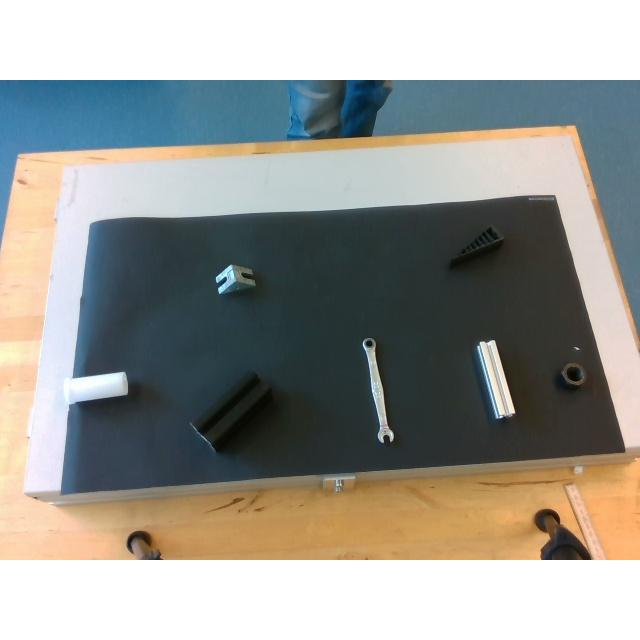F20_20_G: (475, 339, 513, 417)
M20: (559, 360, 587, 390)
S40_40_B: (190, 374, 270, 451)
Spacer: (68, 371, 128, 403)
Wrench: (360, 336, 396, 446)
